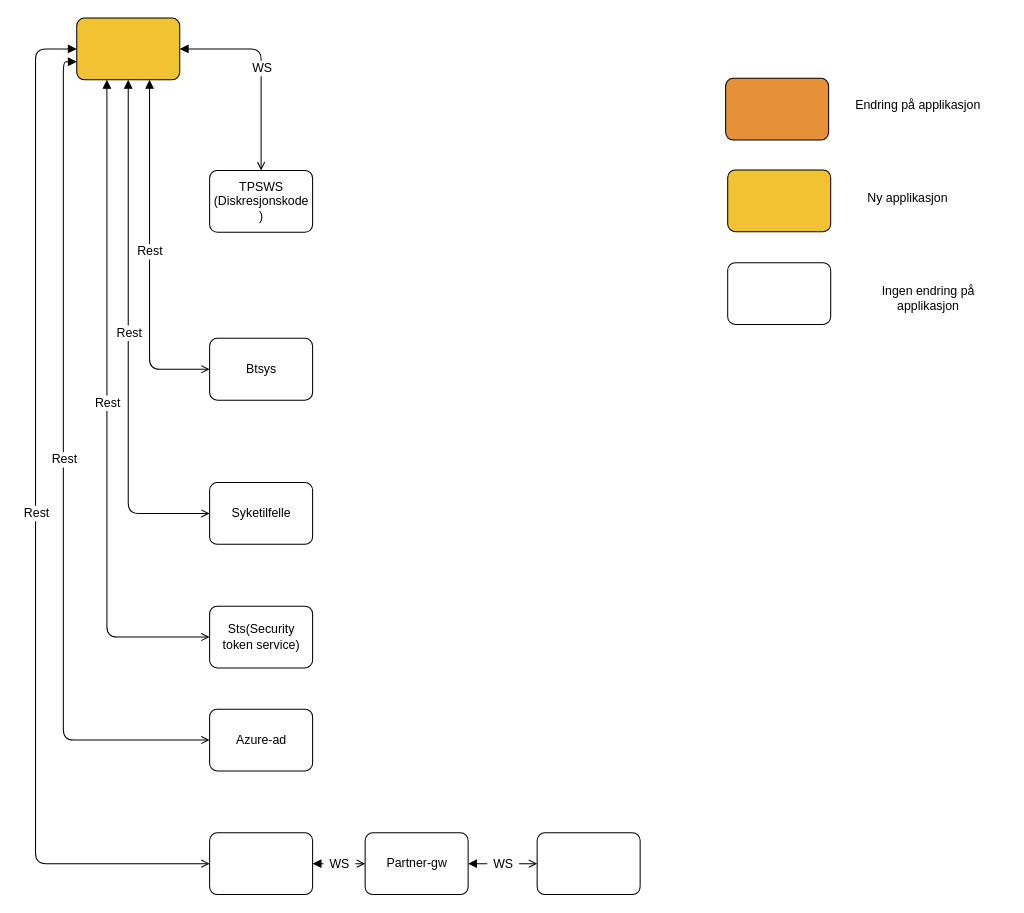
This 1024x913 diagram has some shape labels left out. The shapes that lost their labels are listed below. From the top down, each one's centre as x and y in pixels, then its label:
point (128, 48): SyfoSmRegler
point (261, 863): syfohelsenettproxy
point (588, 863): HPR
